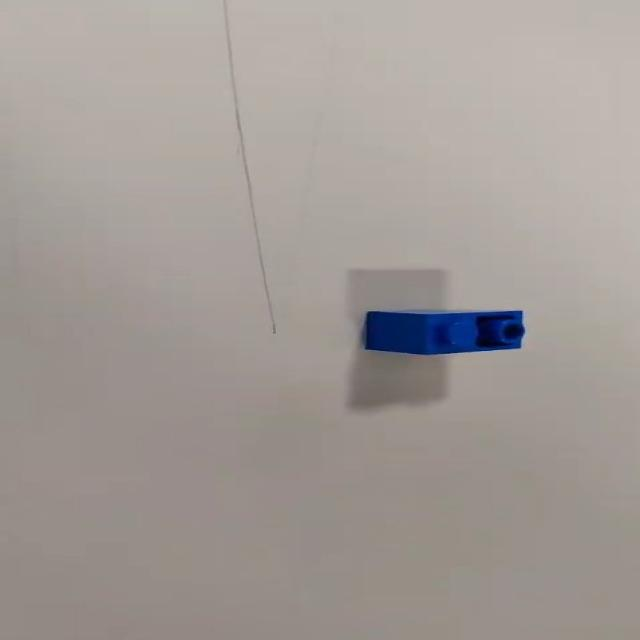X1x2x1: (359, 308, 531, 357)
